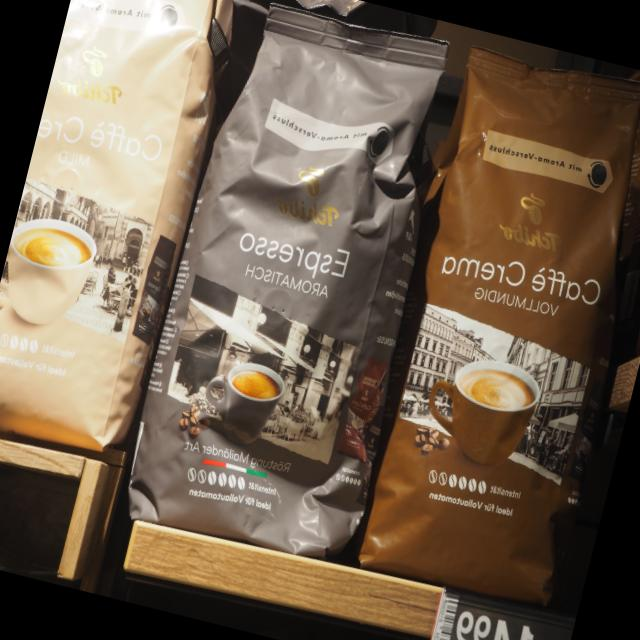CC Mild: (0, 0, 257, 470)
CC Vollmundig 36 Pads: (329, 31, 640, 623)
Espresso Aromatisch: (110, 0, 484, 581)
